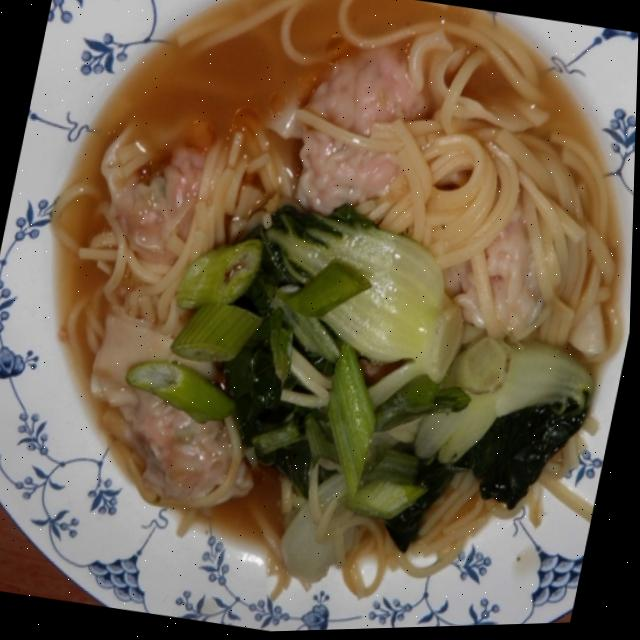汤锅炖物: (5, 0, 640, 640)
